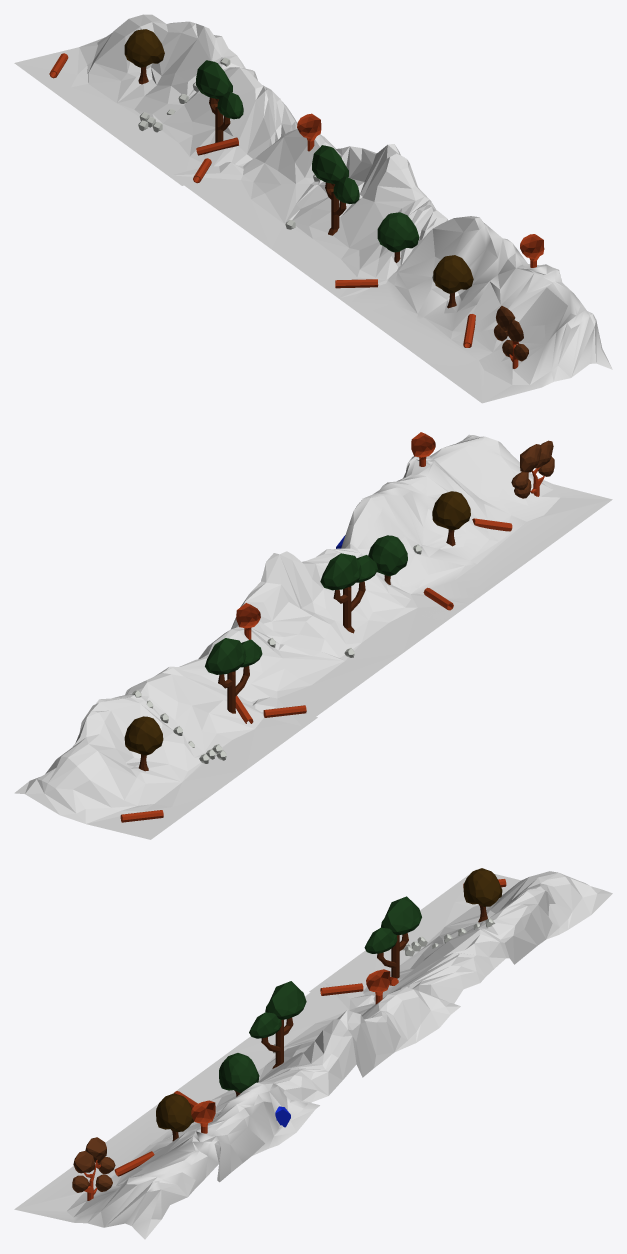
File: ForeGround.FBX
3 views of the same model, one above another, from view 1: azimuth 30°, elevation 25°; view 2: azimuth 150°, elevation 25°; view 3: azimuth 330°, elevation 25° (orthographic).
Visible parts, largest first — view 1: Plane003, Plane002, Plane001, LowPoly Tree 01.001, LowPoly Tree 01.002, LowPoly Tree 01.003, Cylinder001, Icosphere.006, Icosphere.008, Cylinder.005, Icosphere.009, Icosphere.007 (+2 smaller); view 2: Plane002, Plane003, Plane001, Cylinder001, LowPoly Tree 01.002, LowPoly Tree 01.003, LowPoly Tree 01.001, Icosphere.006, Icosphere.008, Cylinder.004, Cylinder.003, Cylinder.005 (+1 smaller); view 3: Plane003, Plane002, Plane001, Cylinder001, LowPoly Tree 01.002, LowPoly Tree 01.001, LowPoly Tree 01.003, Icosphere.006, Icosphere.008, Icosphere.009, Icosphere.007, Cylinder.004 (+3 smaller).
Boxes of the visible parts, x1,y1,x2,y2 form: Plane003: (314,216,612,403); Plane002: (14,14,297,185); Plane001: (171,129,448,298); LowPoly Tree 01.001: (377,212,419,262); LowPoly Tree 01.002: (124,29,164,84); LowPoly Tree 01.003: (433,255,473,308); Cylinder001: (494,306,528,368); Icosphere.006: (196,60,232,99); Icosphere.008: (312,145,348,184); Cylinder.005: (297,113,321,151); Icosphere.009: (333,176,359,203); Icosphere.007: (217,91,243,119); Plane002: (14,657,317,839); Plane003: (341,434,612,621); Plane001: (198,548,469,726); Cylinder001: (511,440,554,498); LowPoly Tree 01.002: (124,716,163,771); LowPoly Tree 01.003: (432,491,470,546); LowPoly Tree 01.001: (368,535,407,584); Icosphere.006: (205,638,246,674); Icosphere.008: (320,553,361,590); Cylinder.004: (333,581,365,633); Cylinder.003: (218,666,249,713); Cylinder.005: (236,603,260,639); Plane003: (14,1081,319,1239); Plane002: (309,869,612,1003); Plane001: (182,982,460,1113); Cylinder001: (72,1137,115,1200); LowPoly Tree 01.002: (463,868,502,922); LowPoly Tree 01.001: (219,1053,259,1096); LowPoly Tree 01.003: (156,1093,193,1141); Icosphere.006: (381,896,421,935); Icosphere.008: (265,981,306,1019); Icosphere.009: (249,1012,281,1038); Icosphere.007: (364,927,397,953); Cylinder.004: (261,1017,293,1068).
Size of the model in its own units: 120 by 69.81 by 665.
